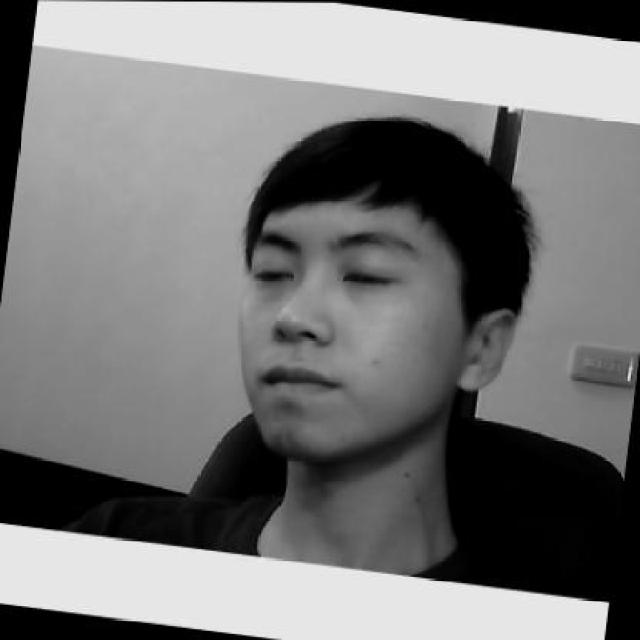inattentif: (223, 96, 540, 479)
